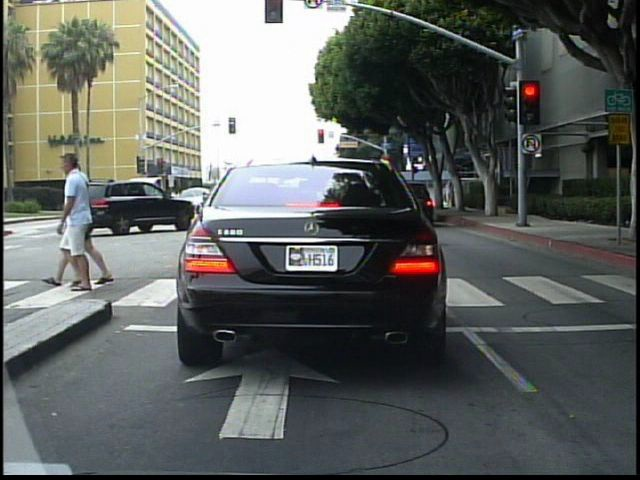person: (57, 150, 117, 293), (62, 150, 92, 290), (443, 177, 456, 211)
